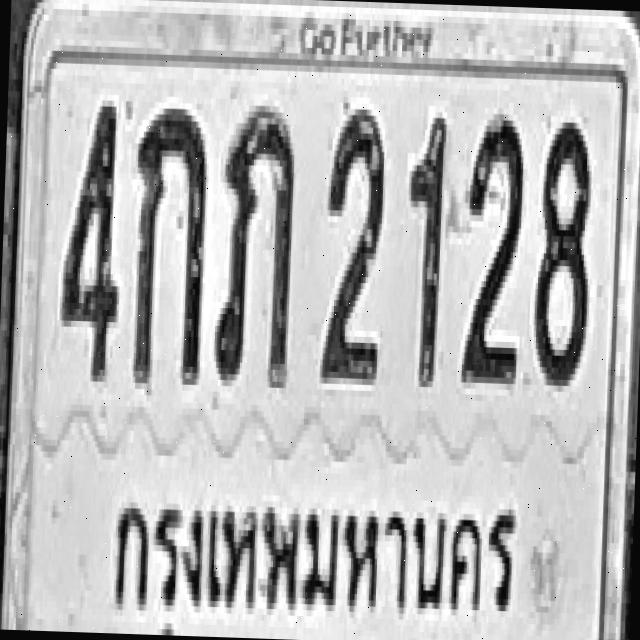1: (402, 108, 446, 384)
10GorGai: (128, 98, 208, 381)
2: (320, 102, 386, 379), (460, 110, 526, 381)
4: (58, 95, 124, 378)
41PhorSamPhao: (212, 101, 296, 384)
8: (532, 112, 592, 384)
Bangkok: (99, 457, 524, 640)
